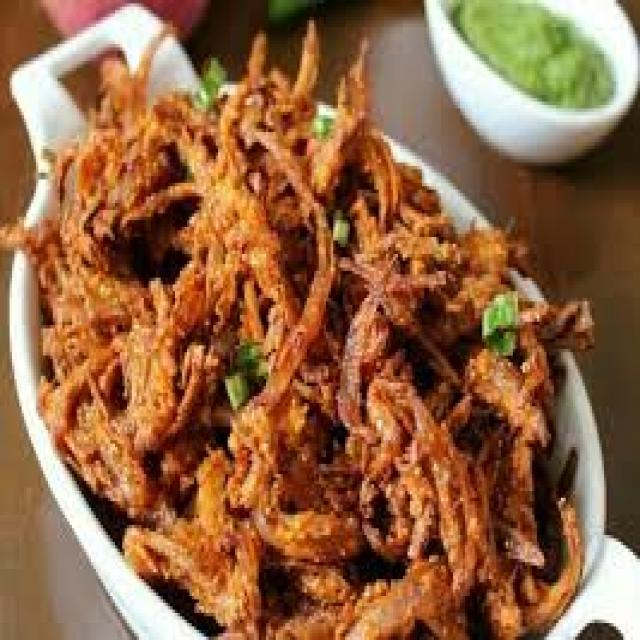BAJI: (0, 22, 597, 637)
